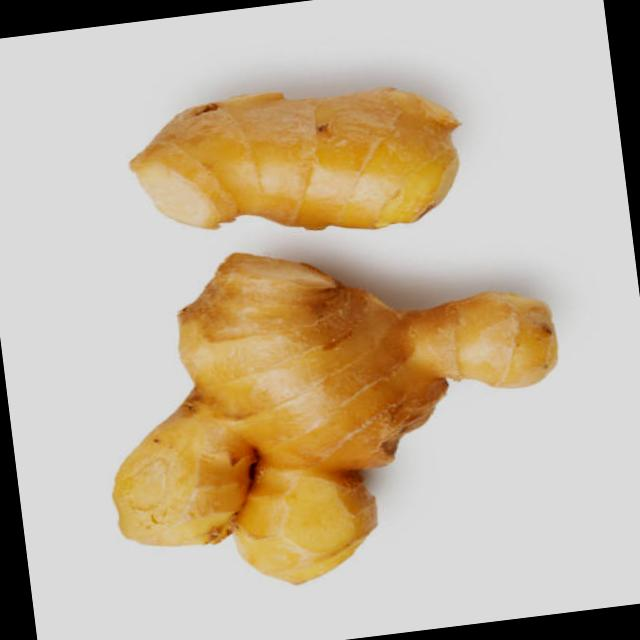ginger-root: (59, 204, 592, 616)
